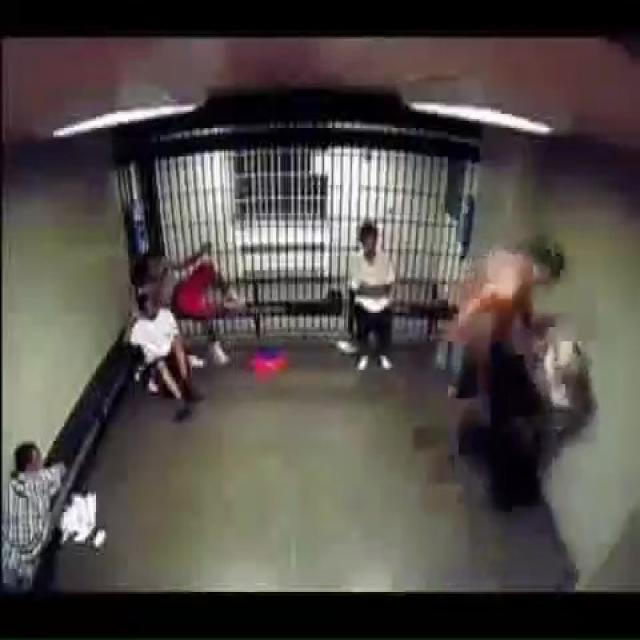fight: (441, 237, 598, 520)
